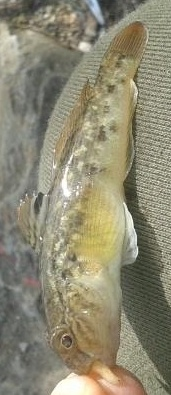Gobio gobio: (20, 20, 151, 375)
